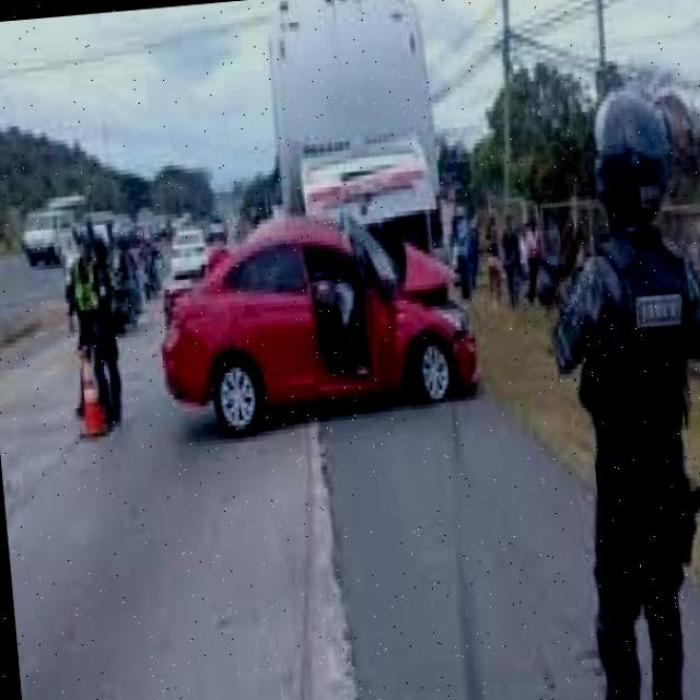Accident: (277, 128, 505, 456)
